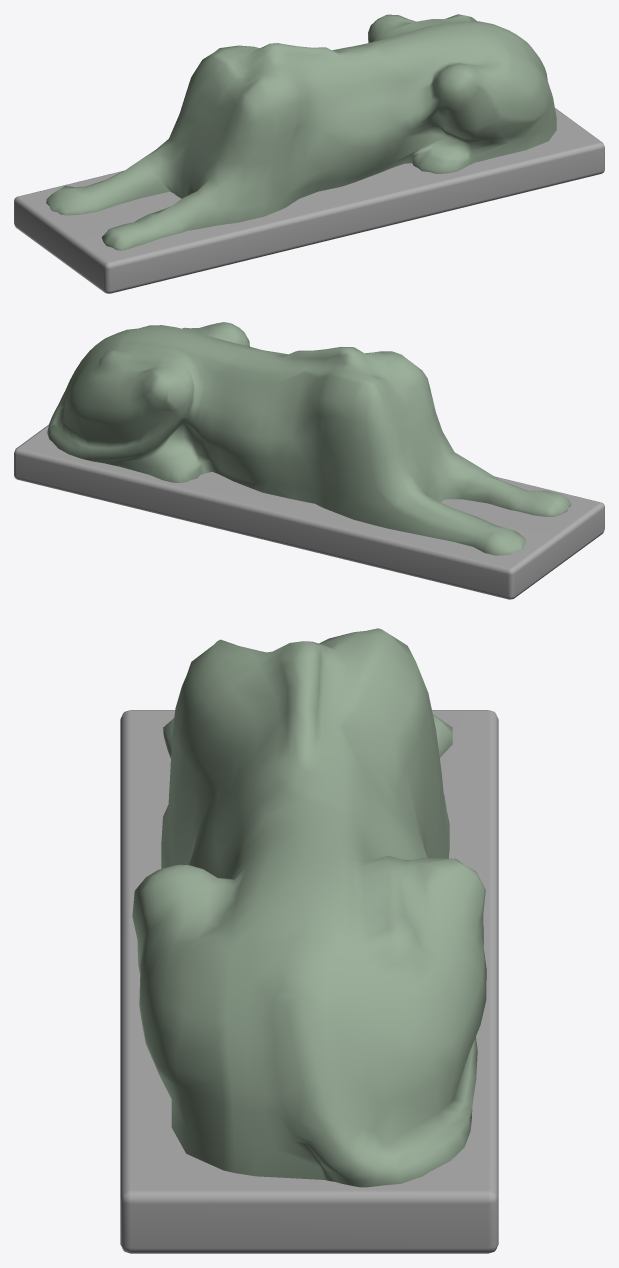
The model's file is ESFINGE.fbx.
3 views of the same model, one above another, from view 1: azimuth 30°, elevation 25°; view 2: azimuth 150°, elevation 25°; view 3: azimuth 270°, elevation 25° (orthographic). The views are drawn at different scales.
Parts seen in each view (by area): view 1: pCube2; view 2: pCube2; view 3: pCube2.
Part boxes in pixels (x1,y1,x2,y2): pCube2: (14, 14, 604, 293); pCube2: (14, 322, 604, 599); pCube2: (120, 628, 498, 1253).
Size of the model in its own units: 1751 by 558 by 574.
